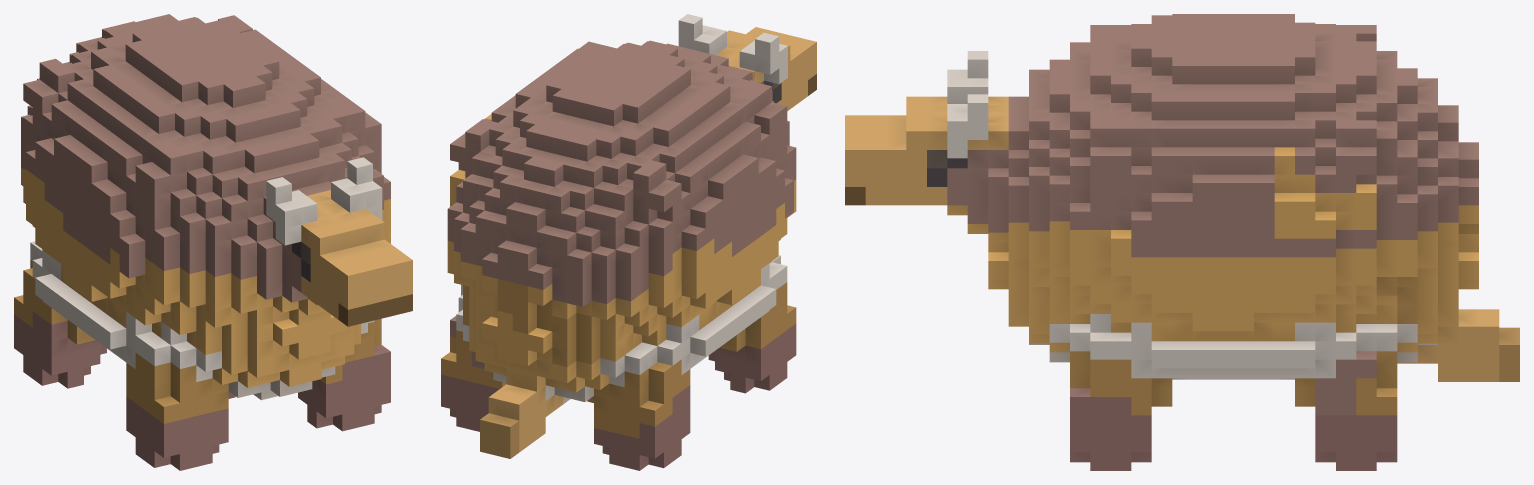
Rendered from tortoise-42-juvenile.glb.
3 renders of one model, left to right at view 1: azimuth 30°, elevation 25°; view 2: azimuth 150°, elevation 25°; view 3: azimuth 270°, elevation 25°, orthographic. The views are drawn at different scales.
Visible parts, largest first — view 1: shell, body, head, legFL, plastron, legBL, legFR, skullBudLeft, skullBudRight, neck, eyeLeft; view 2: shell, body, legBL, plastron, legFL, legBR, head, tail, skullBudLeft, tailTip, skullBudRight; view 3: shell, plastron, body, head, legBR, legFR, tail, neck, skullBudRight, skullBudLeft, tailTip, eyeRight.
Boxes of the visible parts, bbox=[...] form: shell: bbox=[21, 14, 390, 337]; body: bbox=[187, 293, 360, 400]; head: bbox=[273, 190, 412, 326]; legFL: bbox=[126, 353, 235, 470]; plastron: bbox=[30, 241, 374, 381]; legBL: bbox=[14, 260, 106, 388]; legFR: bbox=[298, 318, 390, 431]; skullBudLeft: bbox=[266, 177, 317, 245]; skullBudRight: bbox=[331, 157, 382, 220]; neck: bbox=[257, 221, 326, 315]; eyeLeft: bbox=[292, 242, 310, 282]; shell: bbox=[447, 40, 796, 345]; body: bbox=[463, 279, 641, 403]; legBL: bbox=[587, 359, 690, 470]; plastron: bbox=[456, 255, 787, 387]; legFL: bbox=[708, 282, 796, 393]; legBR: bbox=[441, 316, 506, 431]; head: bbox=[716, 27, 816, 110]; tail: bbox=[488, 384, 563, 452]; skullBudLeft: bbox=[739, 32, 787, 84]; tailTip: bbox=[480, 413, 519, 458]; skullBudRight: bbox=[678, 14, 726, 55]; shell: bbox=[988, 14, 1478, 341]; plastron: bbox=[1049, 314, 1417, 379]; body: bbox=[988, 234, 1478, 362]; head: bbox=[845, 96, 1008, 205]; legBR: bbox=[1295, 351, 1397, 470]; legFR: bbox=[1070, 351, 1172, 470]; tail: bbox=[1397, 309, 1499, 381]; neck: bbox=[947, 150, 1008, 233]; skullBudRight: bbox=[947, 94, 988, 158]; skullBudLeft: bbox=[947, 51, 988, 103]; tailTip: bbox=[1499, 327, 1519, 381]; eyeRight: bbox=[927, 150, 967, 186].
Size of the model in its own units: 0.72 by 0.9 by 1.49.
